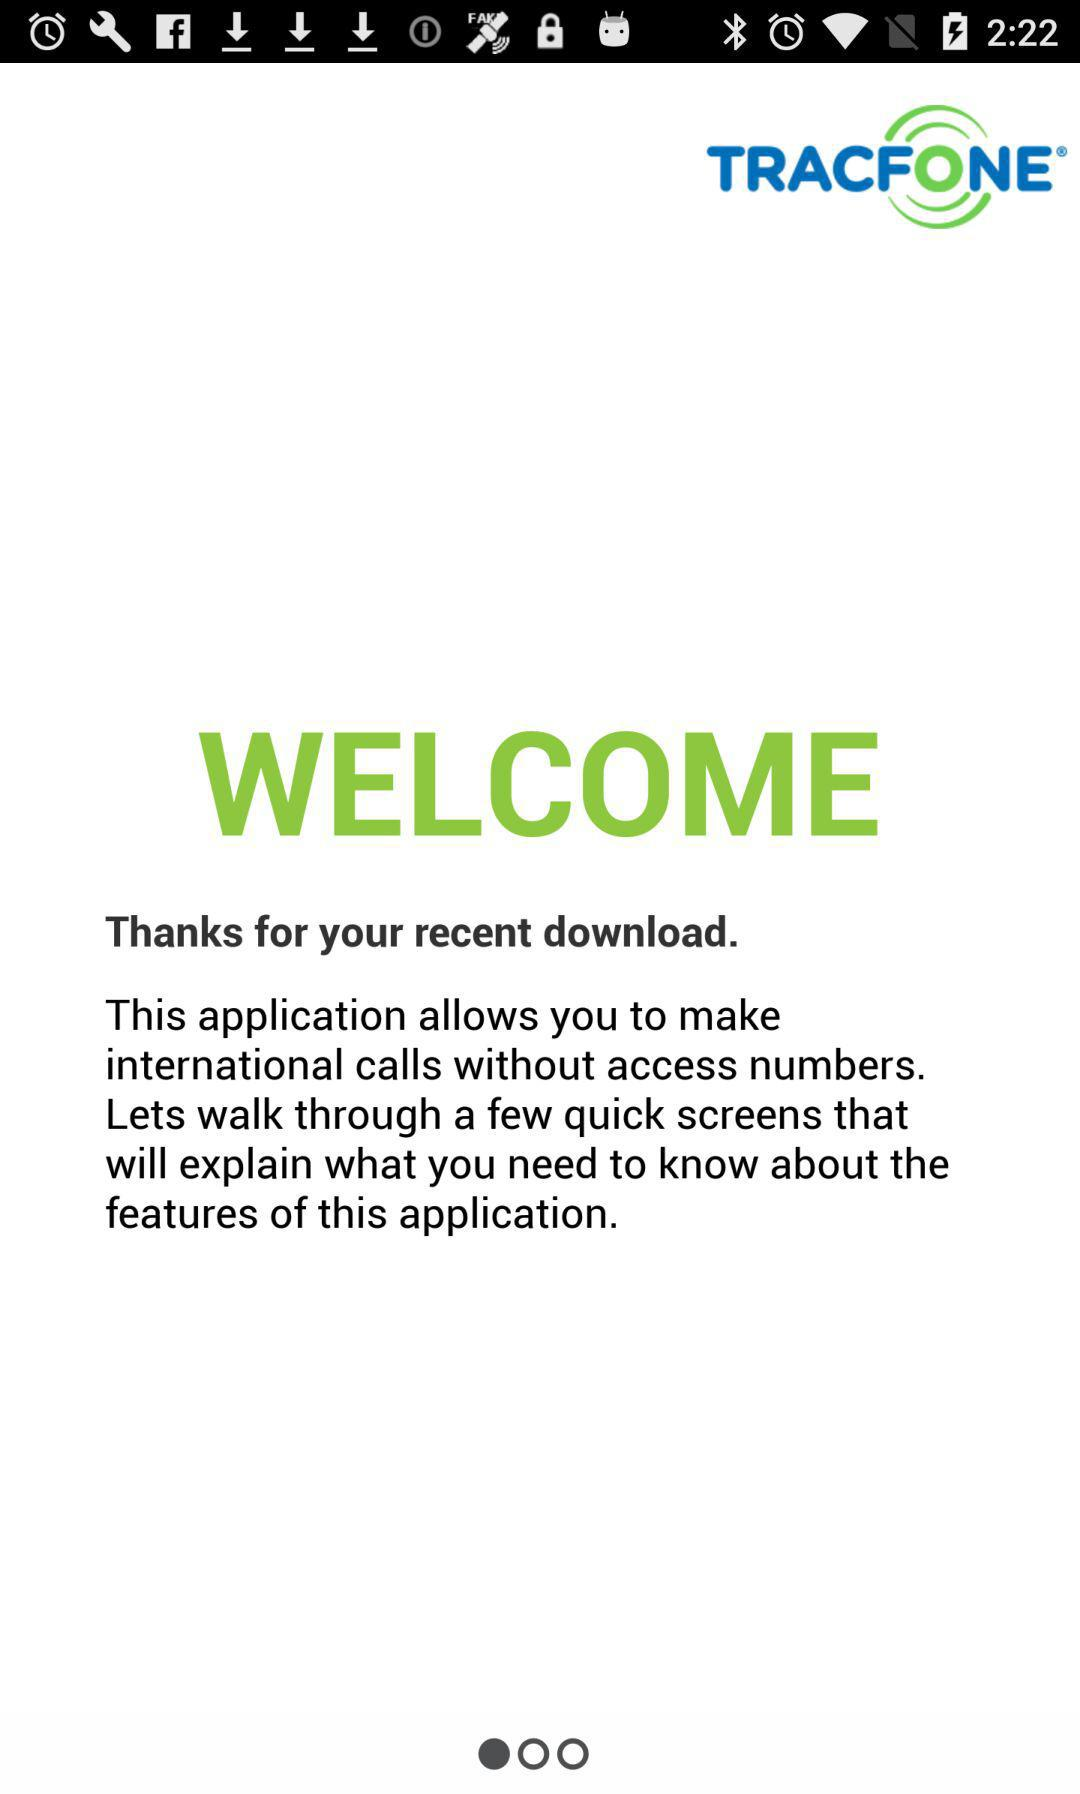Image: (707, 104, 1068, 231)
PageIndicator: (477, 1736, 591, 1771)
Text: (105, 997, 949, 1238), (199, 730, 879, 838), (105, 912, 738, 957)
UpperTaskBar: (1, 1, 1080, 64)
